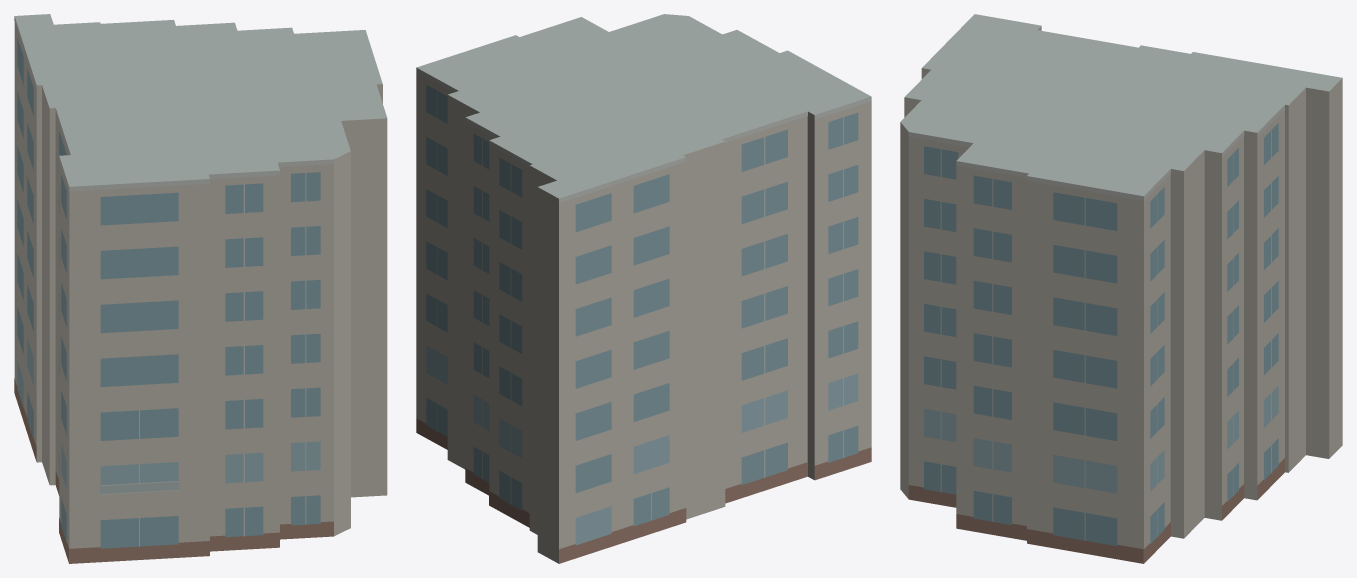
Rendered from survey-upis-32920235.glb.
3 views of the same model, side by side, from view 1: azimuth 30°, elevation 25°; view 2: azimuth 150°, elevation 25°; view 3: azimuth 270°, elevation 25° (orthographic). The views are drawn at different scales.
Visible parts, largest first — view 1: survey-upis-32920235.tmp; view 2: survey-upis-32920235.tmp; view 3: survey-upis-32920235.tmp.
Part boxes in pixels (box(x1,y1,x2,y2)): survey-upis-32920235.tmp: box(14, 14, 387, 563); survey-upis-32920235.tmp: box(416, 14, 871, 563); survey-upis-32920235.tmp: box(900, 14, 1342, 563).
Bounding box in the file's own units: 20.64 × 19.4 × 21.16.
